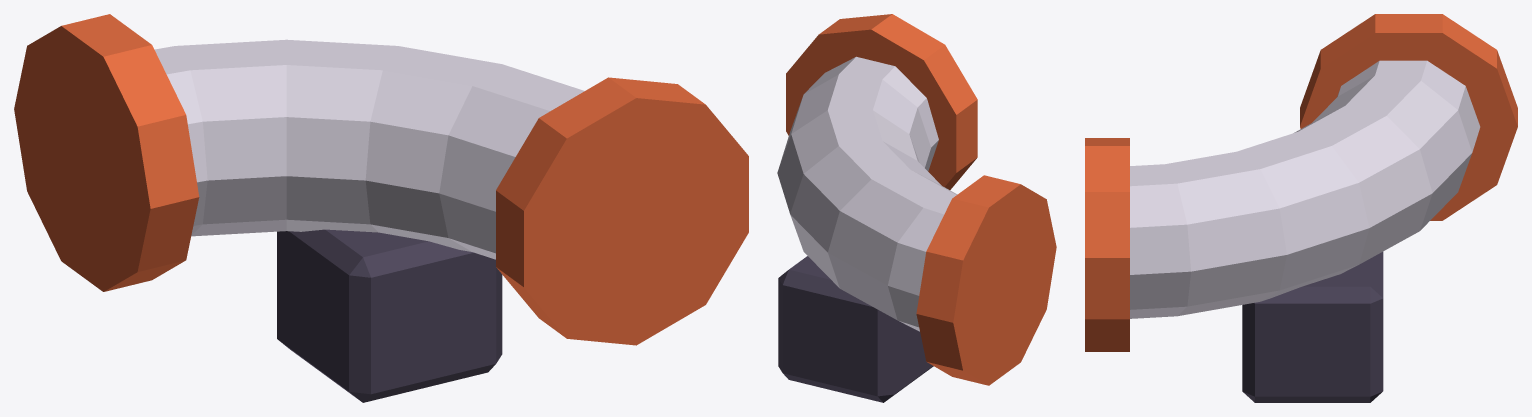
File: MOONSHIFT_AIR_Pipe_Corner.glb
3 views of the same model, side by side, from view 1: azimuth 30°, elevation 25°; view 2: azimuth 150°, elevation 25°; view 3: azimuth 270°, elevation 25° (orthographic). The views are drawn at different scales.
Parts seen in each view (by area): view 1: PipeC_Elbow, PipeC_FlangeB, PipeC_FlangeA, PipeC_Support; view 2: PipeC_Elbow, PipeC_FlangeA, PipeC_Support, PipeC_FlangeB; view 3: PipeC_Elbow, PipeC_Support, PipeC_FlangeA, PipeC_FlangeB.
Boxes of the visible parts, x1,y1,x2,y2 form: PipeC_Elbow: (155,39,584,259); PipeC_FlangeB: (496,77,748,345); PipeC_FlangeA: (14,14,199,291); PipeC_Support: (277,229,502,402); PipeC_Elbow: (777,56,957,331); PipeC_FlangeA: (916,175,1056,385); PipeC_Support: (778,256,933,402); PipeC_FlangeB: (786,14,977,189); PipeC_Elbow: (1130,60,1480,318); PipeC_Support: (1242,251,1383,402); PipeC_FlangeA: (1300,14,1517,220); PipeC_FlangeB: (1085,138,1129,351).
Bounding box in the file's own units: 0.6667 × 0.47 × 0.675.
